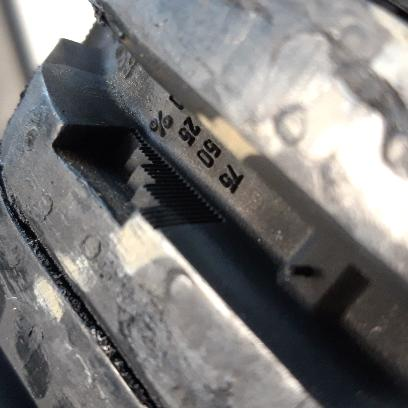temoin:100: (51, 118, 230, 234)
